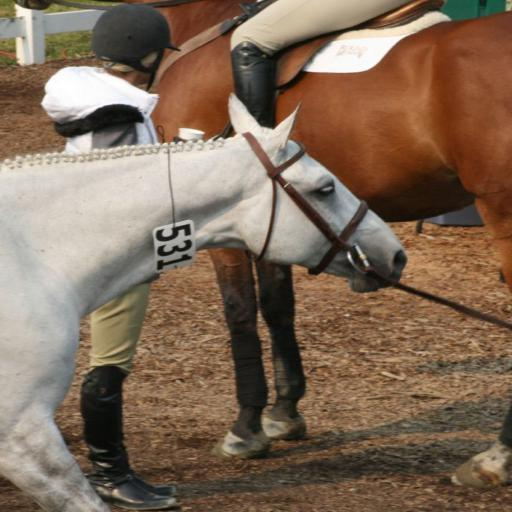horse: (121, 0, 511, 492), (0, 92, 410, 512)
